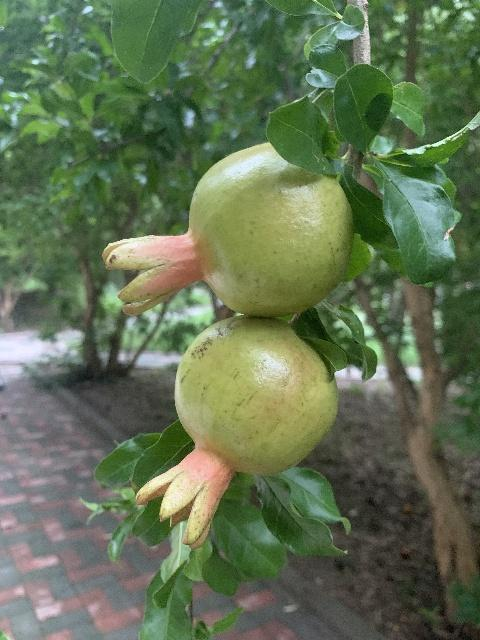mid-growth: (135, 314, 339, 547), (101, 143, 353, 316)
